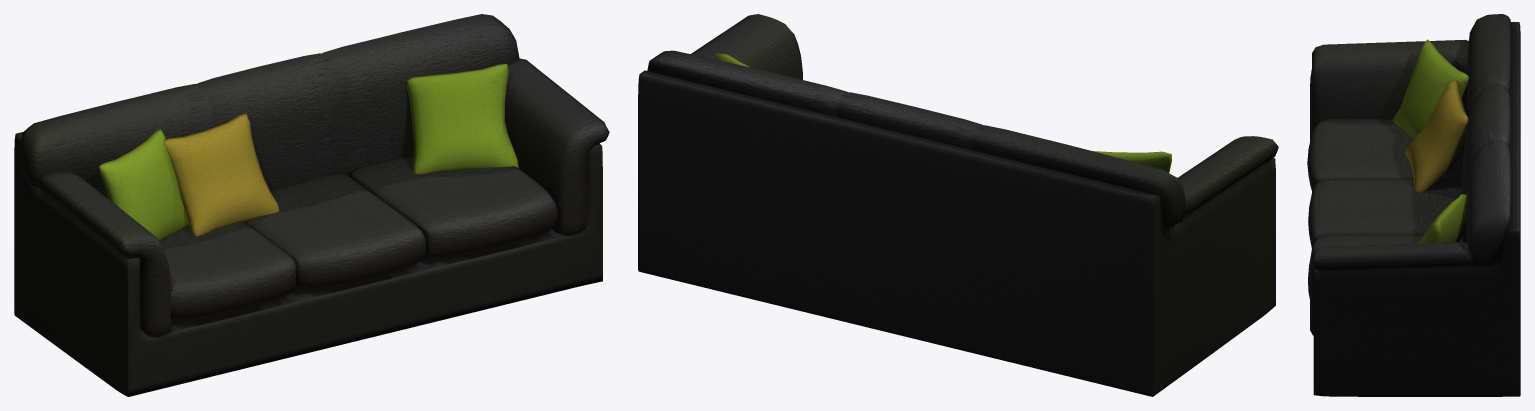
The picture shows the model from 3 angles, left to right: view 1: azimuth 30°, elevation 25°; view 2: azimuth 150°, elevation 25°; view 3: azimuth 270°, elevation 25°; orthographic projection. The views are drawn at different scales.
Parts seen in each view (by area): view 1: cushions.001, sofa.001, pillows.001, pillows.002; view 2: sofa.001, cushions.001, pillows.001; view 3: cushions.001, sofa.001, pillows.001, pillows.002.
Boxes of the visible parts, bbox=[...] form: cushions.001: bbox=[19, 14, 609, 335]; sofa.001: bbox=[14, 132, 602, 396]; pillows.001: bbox=[99, 64, 519, 241]; pillows.002: bbox=[163, 113, 279, 236]; sofa.001: bbox=[638, 70, 1275, 396]; cushions.001: bbox=[647, 14, 1278, 231]; pillows.001: bbox=[716, 53, 1171, 172]; cushions.001: bbox=[1307, 14, 1511, 335]; sofa.001: bbox=[1313, 22, 1520, 396]; pillows.001: bbox=[1392, 39, 1469, 243]; pillows.002: bbox=[1405, 79, 1468, 192].
Bounding box in the file's own units: 3.61 × 1.41 × 1.5.
4 materials, 4 textured.
